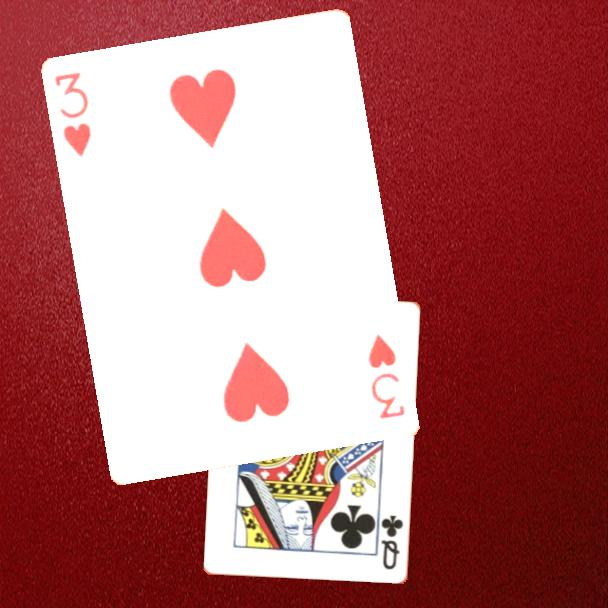c12: (378, 512, 406, 573)
h03: (365, 331, 409, 422), (52, 69, 95, 160)
